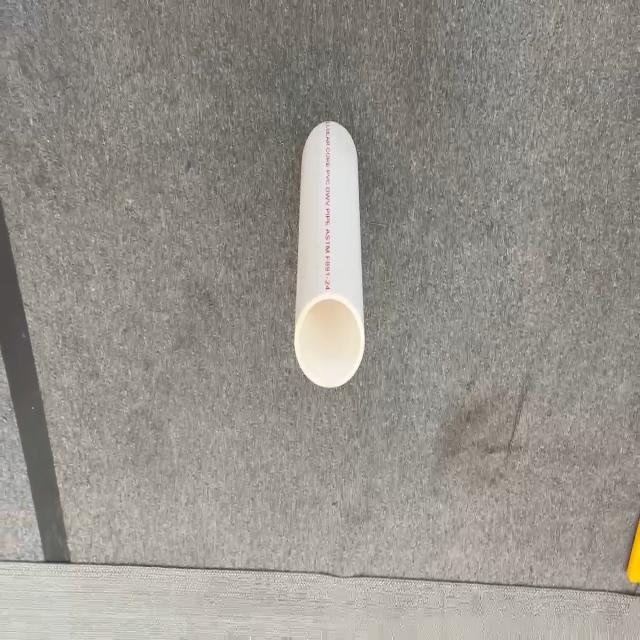coral: (293, 119, 365, 389)
